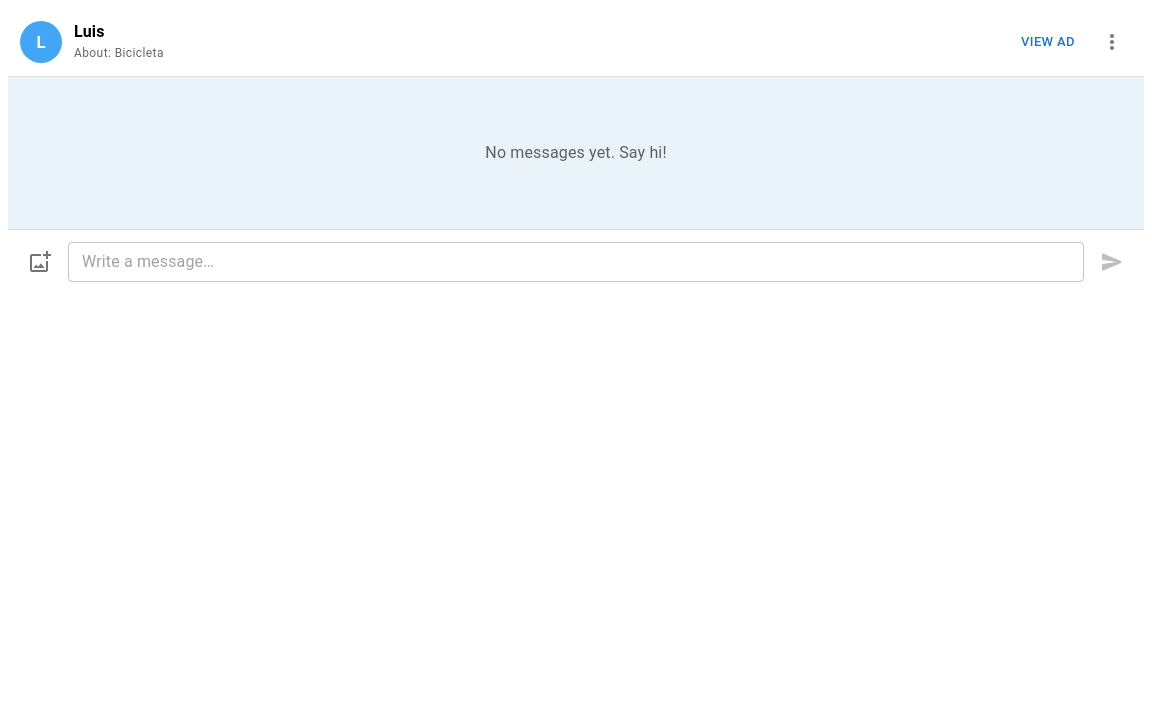
Test: ChatWindow › lets the user write, and blocks the other person after asking
Later steps or results of the test are not shown.
Expected: the text box with placeholder "Write a message…" is shown, top-left (82, 250), bottom-right (1070, 273)
The options appear once the conversation has loaded.
Click the button named "More options": click(1112, 42) top-left (1092, 22), bottom-right (1132, 62)
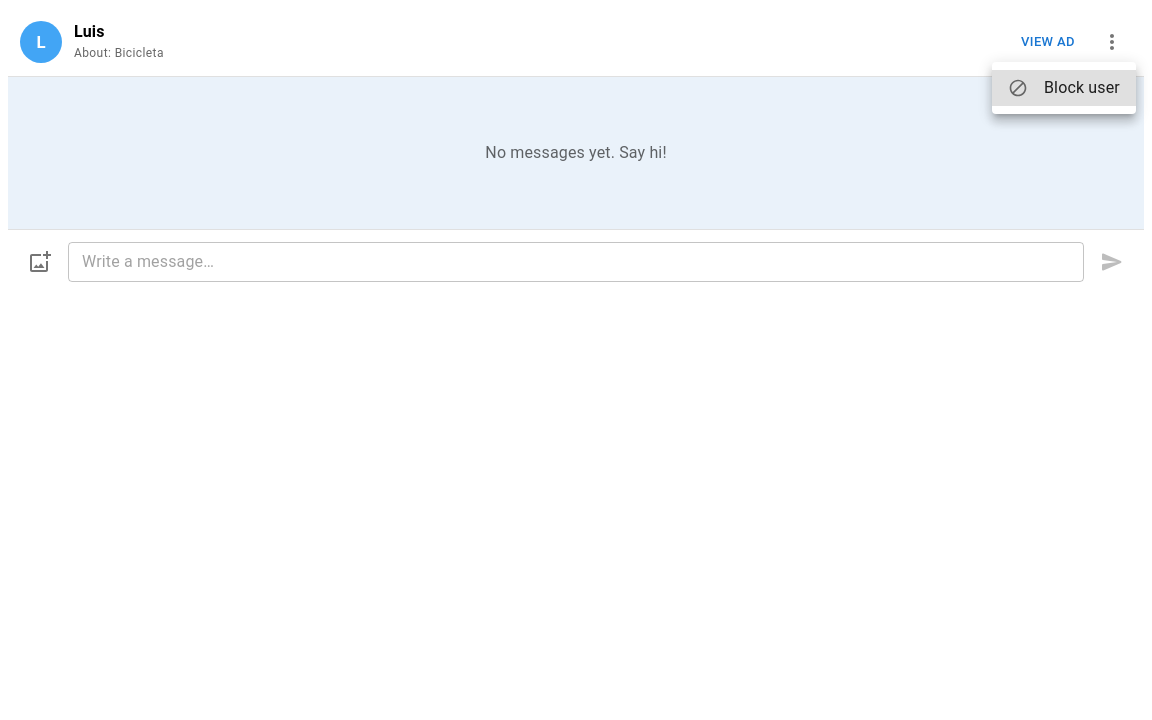
Click the menu item "Block user": click(1064, 88) top-left (992, 70), bottom-right (1136, 106)
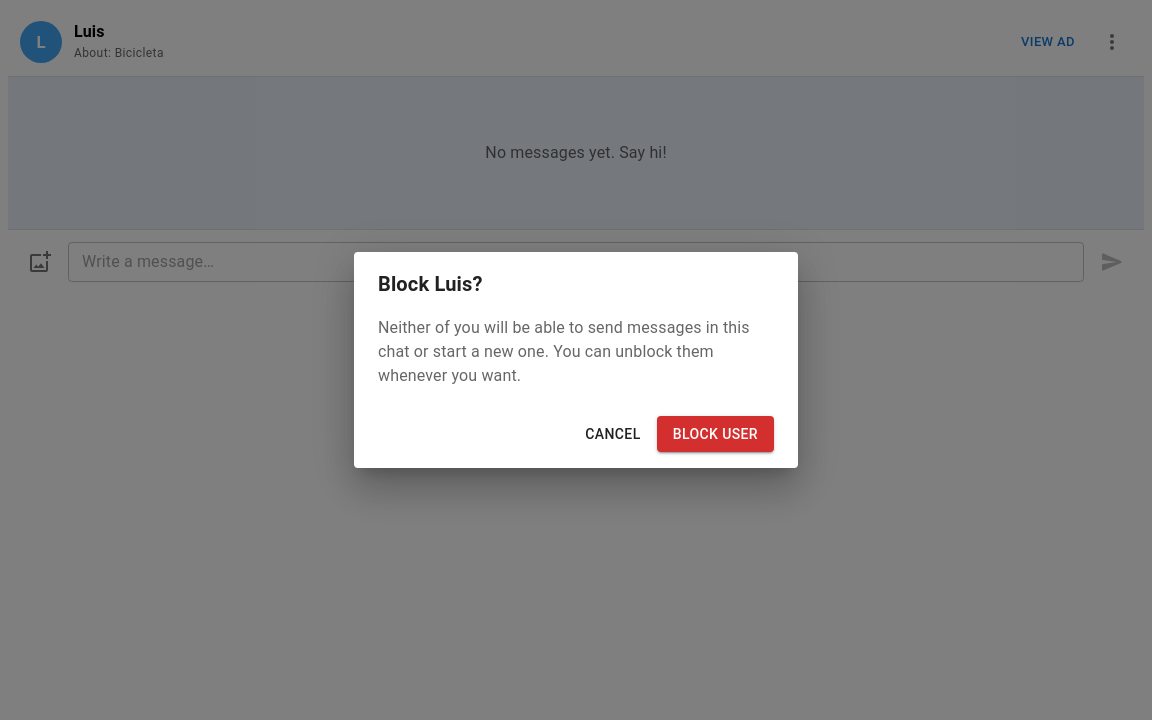
Expected: the heading "Block Luis?" is shown, top-left (378, 272), bottom-right (483, 296)
